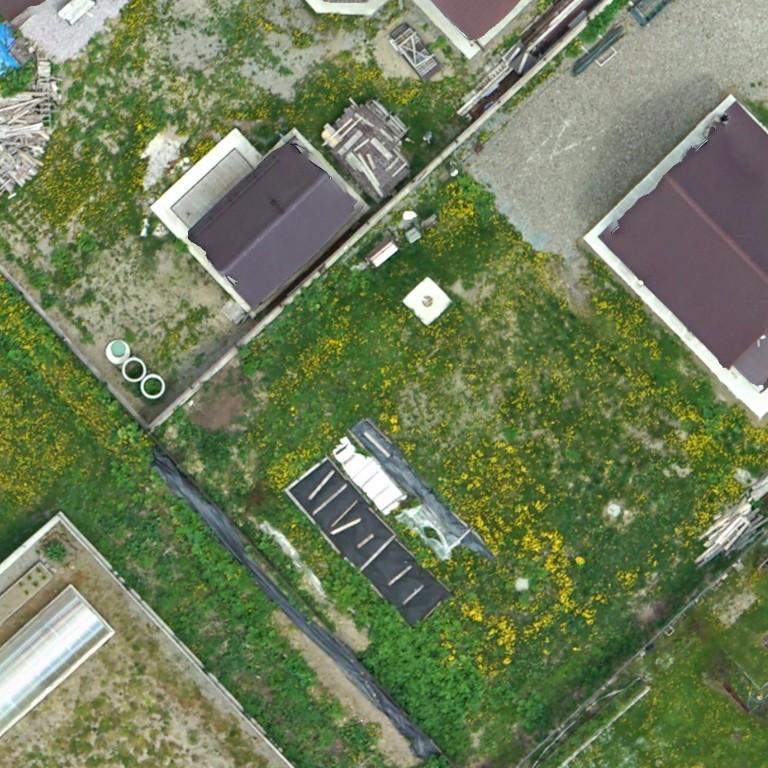hogweed: (324, 563, 485, 757)
